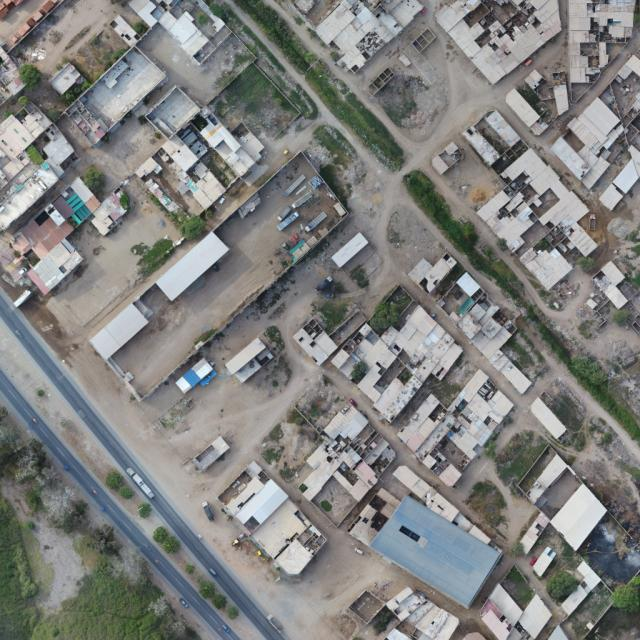dryland: (110, 252, 416, 542), (129, 67, 271, 212), (0, 322, 121, 489), (0, 162, 136, 304), (369, 492, 503, 609), (281, 402, 404, 526), (54, 31, 173, 149), (232, 482, 331, 583), (33, 516, 92, 611), (108, 473, 178, 553), (154, 231, 229, 302), (547, 484, 612, 551), (89, 297, 155, 361), (249, 499, 312, 561), (558, 580, 621, 640), (233, 478, 289, 533), (234, 480, 289, 533), (217, 460, 271, 512), (534, 469, 584, 520), (167, 545, 214, 593), (592, 260, 631, 313), (496, 565, 540, 611), (515, 594, 557, 639), (474, 597, 516, 640), (224, 476, 265, 517), (486, 584, 526, 626), (385, 583, 426, 623), (143, 178, 181, 216), (349, 587, 386, 625), (535, 454, 570, 491), (422, 607, 461, 640), (559, 584, 589, 615), (229, 613, 260, 640), (277, 459, 302, 483), (396, 618, 417, 638), (548, 625, 572, 640), (575, 560, 593, 578), (384, 629, 411, 639)
greenland: (399, 163, 529, 310), (300, 59, 414, 176), (0, 495, 39, 640)
unmetalled_road: (312, 0, 610, 212), (316, 97, 526, 314), (441, 159, 504, 225), (441, 159, 502, 224), (239, 11, 256, 29)
